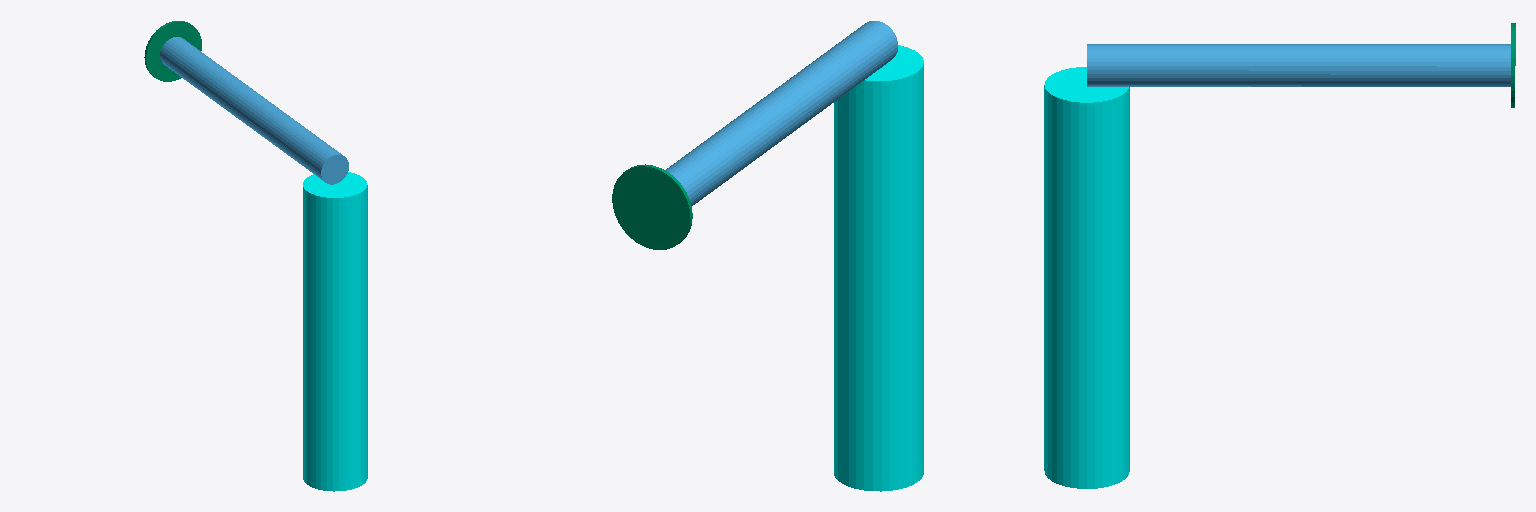
URDF robot description (base):
<?xml version="1.0"?>

<robot name="base" xmlns:xacro="http://ros.org/wiki/xacro">

<link name="base_footprint">
<inertial>
         <mass value="0.000001" />
         <origin xyz="0 0 0.5" />
         <inertia ixx="0.0001" ixy="0.0" ixz="0.0"
            iyy="0.0001" iyz="0.0"
            izz="0.0001" />
         </inertial>
  <visual>
        <origin xyz="0 0 0.5" rpy="0 0 0" />
        <geometry>
          <cylinder radius= "0.1" length="1"/>
        </geometry> 
        <material name="Cyan">
       <color rgba="0 1.0 1.0 1.0"/>
     </material>       
      </visual>  
  <collision>
        <origin xyz="0 0 0.5" rpy="0 0 0" />
        <geometry>
          <cylinder radius= "0.1" length="1"/>
        </geometry>
      </collision> 
       
</link>

<link name="arm_link">
<inertial>
         <mass value="0.000001" />
         <origin xyz="0 0 0.5" />
         <inertia ixx="0.0001" ixy="0.0" ixz="0.0"
            iyy="0.0001" iyz="0.0"
            izz="0.0001" />
         </inertial>
      <visual>
        <origin xyz="0 0.5 0.05" rpy="1.57 0 0" />
        <geometry>
          <cylinder radius= "0.05" length="1"/>
        </geometry>        
      </visual>   
       <collision>
        <origin xyz="0 0 0.5" rpy="0 0 0" />
        <geometry>
          <cylinder radius= "0.05" length="1"/>
        </geometry>
      </collision>    
</link>
<joint name="joint" type="revolute">
         <origin xyz="0 0 1.00" rpy="0 0 0" />
          <parent link="base_footprint" />
          <child link="arm_link" />
          <axis xyz="1 0 0" />
          <limit effort="1000.0" lower="-0.5" upper="0.548" velocity="0.5"/>
      </joint>

  <link name="alink">
<inertial>
         <mass value="0.000001" />
         <origin xyz="0 0 0.5" />
         <inertia ixx="0.0001" ixy="0.0" ixz="0.0"
            iyy="0.0001" iyz="0.0"
            izz="0.0001" />
         </inertial>
      <visual>
        <origin xyz="0 0 0" rpy="1.57 0 0" />
        <geometry>
          <cylinder radius= "0.1" length="0.01"/>
        </geometry>        
      </visual>   
       <collision>
        <origin xyz="0 0 0.5" rpy="0 0 0" />
        <geometry>
          <cylinder radius= "0.1" length="0.01"/>
        </geometry>
      </collision>    
</link>
<joint name="bjoint" type="revolute">
         <origin xyz="0 1 0.05" rpy="0 0 0" />
          <parent link="arm_link" />
          <child link="alink" />
          <axis xyz="1 0 0" />
          <limit effort="1000.0" lower="-0.5" upper="0.548" velocity="0.5"/>
      </joint>
      
      

  

</robot>

--- Render facts (derived) ---
Views: 3 orthographic renders of the robot side by side, from view 1: azimuth 30°, elevation 25°; view 2: azimuth 150°, elevation 25°; view 3: azimuth 270°, elevation 25°.
Robot: base — 3 links, 2 joints (2 revolute); root link base_footprint; default pose: all joints at 0.
Visible links, largest first — view 1: base_footprint, arm_link, alink; view 2: base_footprint, arm_link, alink; view 3: base_footprint, arm_link.
Link boxes in pixels (x1=…): base_footprint: x1=303, y1=172, x2=367, y2=491; arm_link: x1=160, y1=37, x2=348, y2=184; alink: x1=144, y1=21, x2=201, y2=81; base_footprint: x1=834, y1=45, x2=923, y2=491; arm_link: x1=665, y1=21, x2=897, y2=205; alink: x1=612, y1=164, x2=692, y2=249; base_footprint: x1=1044, y1=67, x2=1129, y2=488; arm_link: x1=1087, y1=44, x2=1510, y2=86.
Size in the robot's own frame: 0.2 by 1.11 by 1.15 metres.
Geometry: primitives only (box / cylinder / sphere), no mesh files.